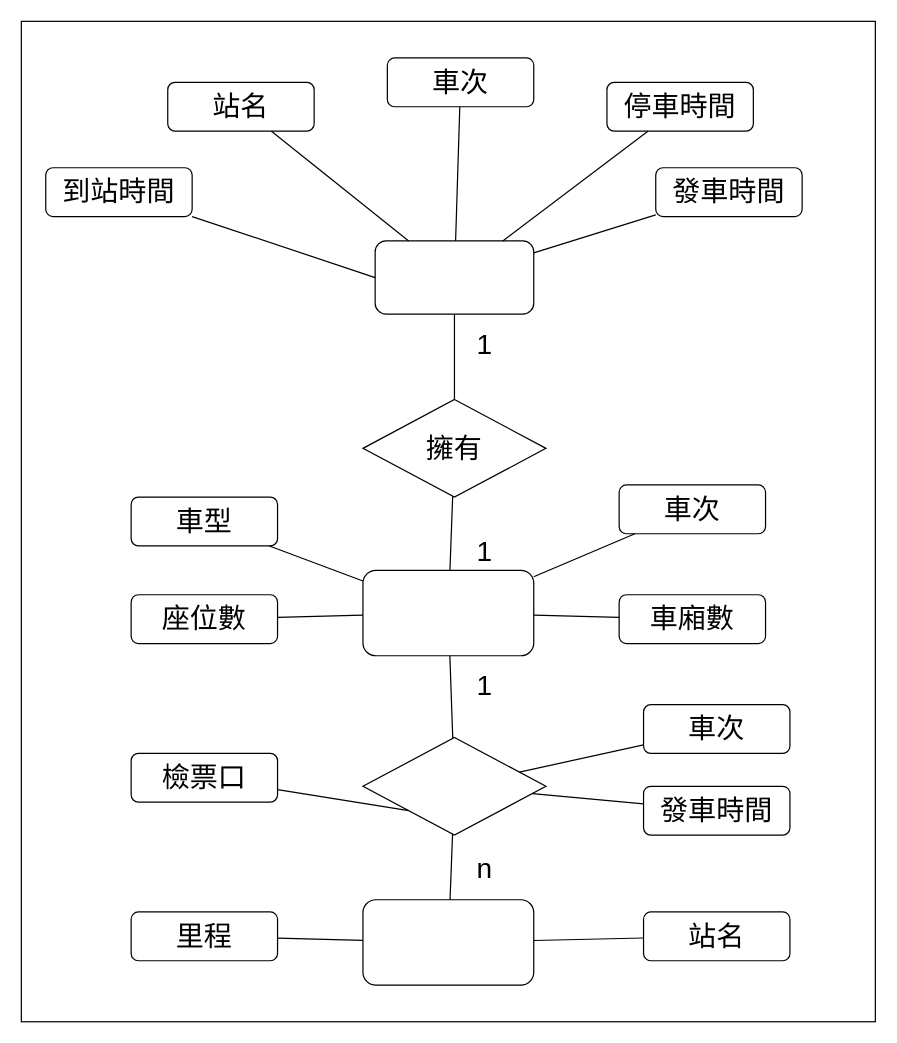
Image size: 897x1043. Some labels were removed from this diagram. The centre of each missing label's shape, as x and y in pixels:
時刻表: [454,277]
終點站: [448,942]
車輛: [448,612]
開往: [454,785]
